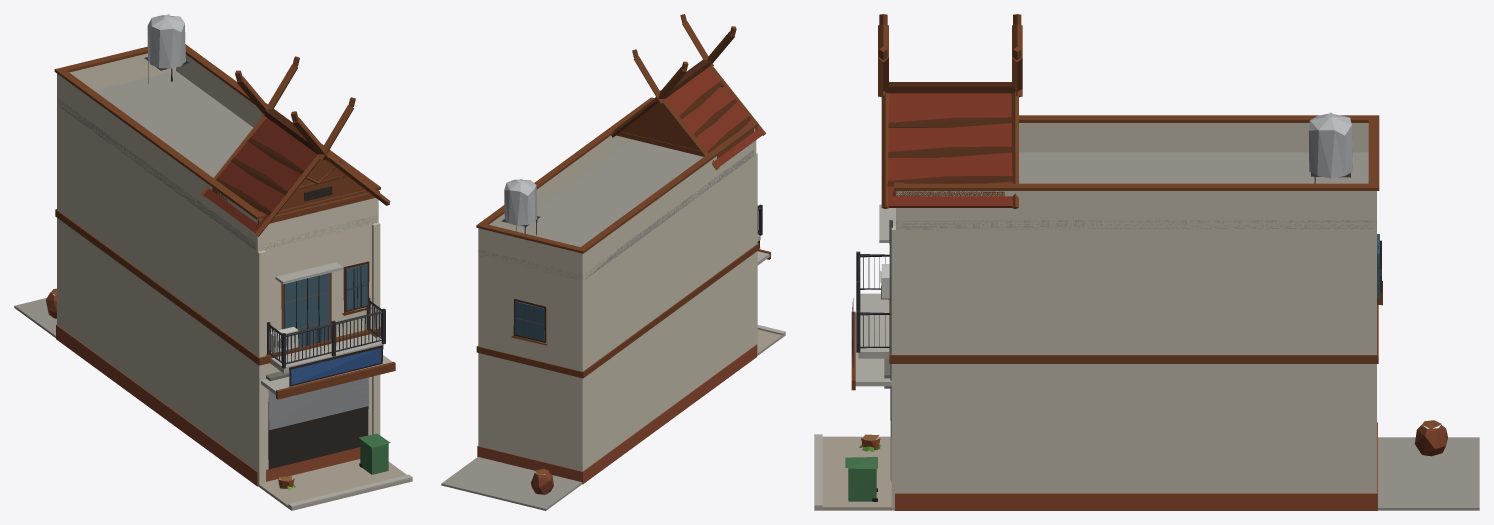
Rendered from bay1_mid.glb.
The picture shows the model from 3 angles, left to right: view 1: azimuth 30°, elevation 25°; view 2: azimuth 150°, elevation 25°; view 3: azimuth 270°, elevation 25°; orthographic projection. The views are drawn at different scales.
Parts seen in each view (by area): view 1: body, windows; view 2: body, windows; view 3: body.
Boxes of the visible parts, x1,y1,x2,y2 form: body: (14,14,412,510); windows: (268,186,368,469); body: (441,14,785,510); windows: (515,301,544,341); body: (814,14,1479,510).
Bounding box in the file's own units: 4.49 × 12.01 × 15.9.
